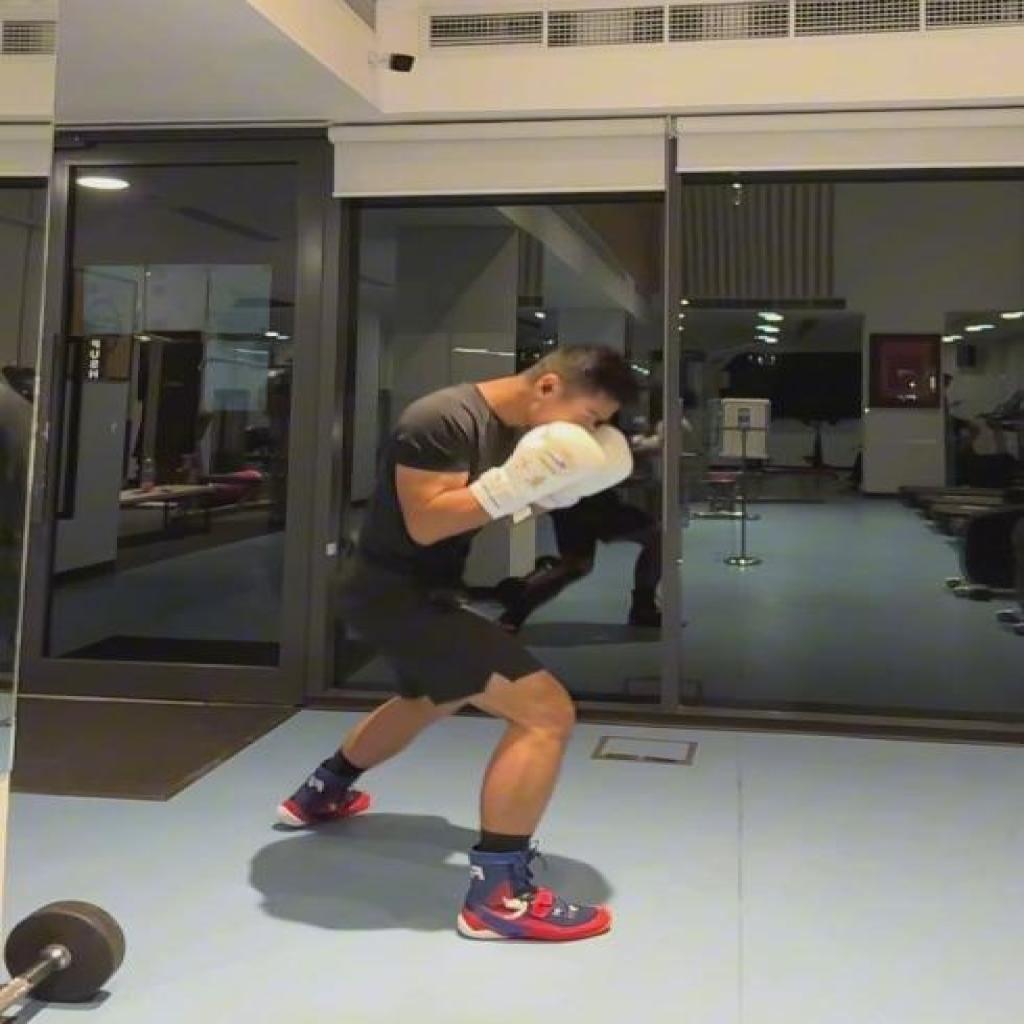no punch: (280, 336, 642, 946)
